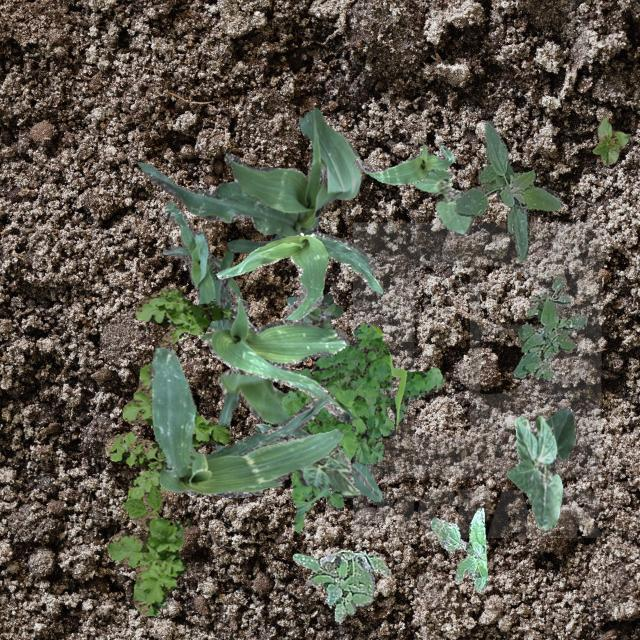crop: (215, 250, 382, 500), (136, 106, 377, 272), (150, 346, 342, 496), (200, 296, 356, 420), (215, 232, 382, 320), (160, 198, 240, 329), (504, 408, 576, 530), (254, 422, 358, 497), (352, 142, 453, 184), (410, 168, 472, 235), (592, 116, 630, 164)
weed: (104, 286, 230, 616), (280, 322, 442, 532), (454, 120, 562, 260), (512, 274, 586, 380), (292, 548, 389, 622), (429, 506, 486, 590), (308, 292, 342, 326)
